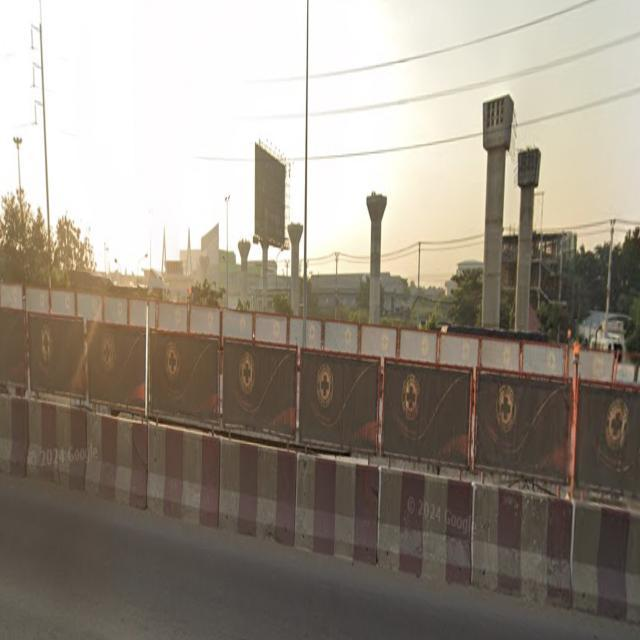fallen_object: (453, 473, 578, 629), (203, 423, 308, 570), (283, 439, 382, 588), (135, 410, 233, 552), (365, 455, 460, 593), (553, 496, 640, 640), (72, 405, 154, 518), (15, 386, 85, 507), (0, 370, 25, 484)
